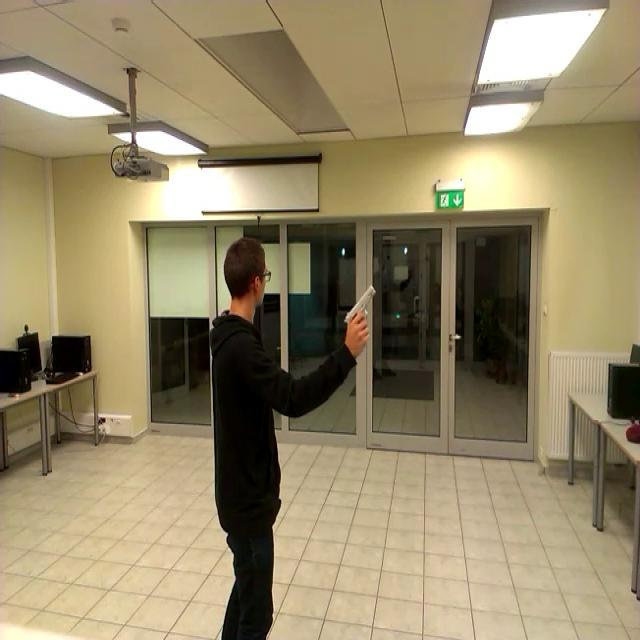Gun: (339, 276, 382, 346)
